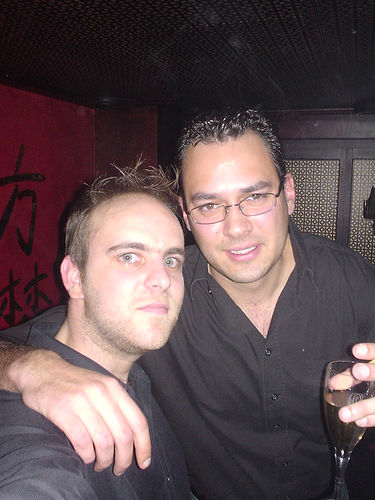without_mask: (58, 168, 202, 364), (169, 110, 313, 285)
